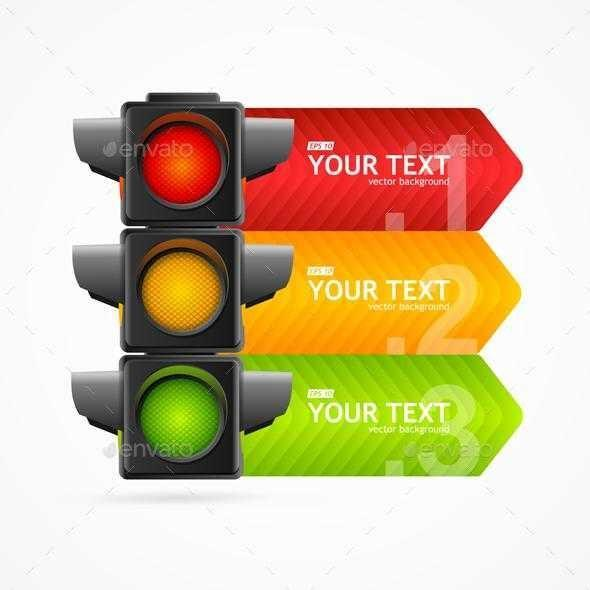5: (128, 104, 230, 216)
9: (134, 236, 233, 350)
red traffic light: (133, 365, 229, 476)
